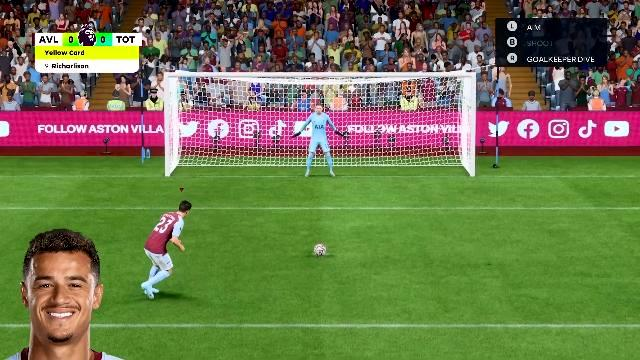bottom-left: (170, 132, 270, 180)
bottom-right: (366, 130, 466, 178)
center-down: (272, 131, 362, 179)
center-up: (273, 79, 363, 129)
football: (314, 243, 328, 255)
goalkeeper: (298, 108, 338, 180)
player: (134, 194, 198, 308)
top-left: (170, 79, 270, 129)
top-right: (364, 80, 470, 128)
